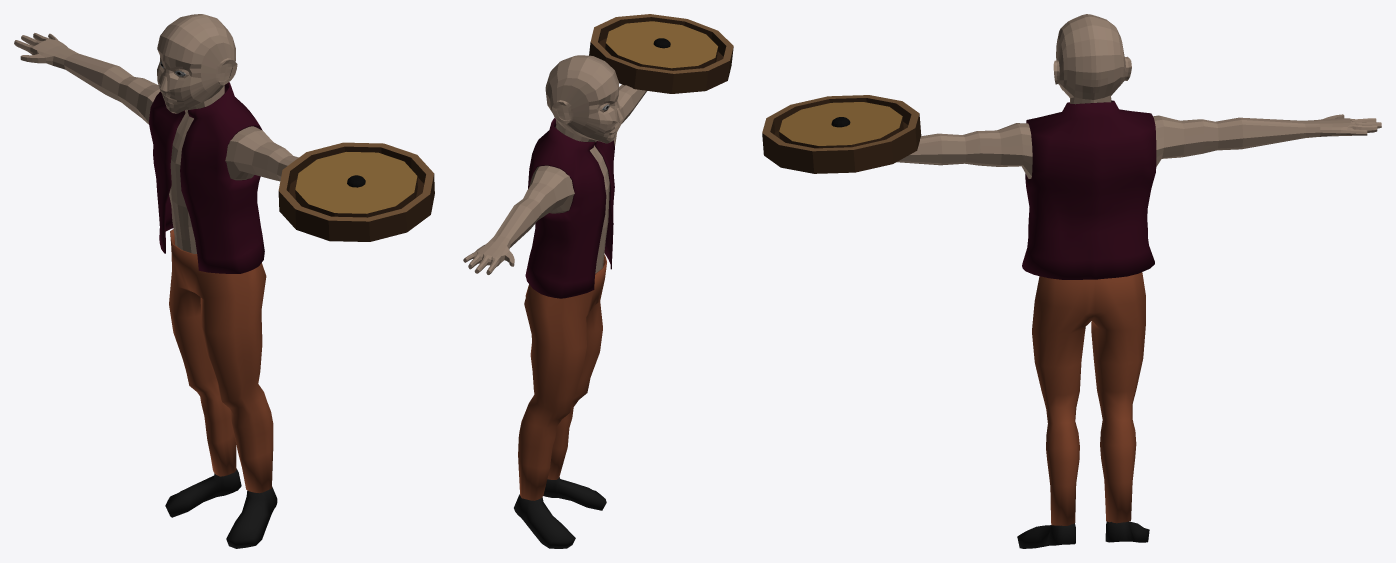
The model's file is animated_character.fbx.
3 views of the same model, side by side, from view 1: azimuth 30°, elevation 25°; view 2: azimuth 150°, elevation 25°; view 3: azimuth 270°, elevation 25° (orthographic). The views are drawn at different scales.
Parts seen in each view (by area): view 1: Celana, Body, Baju, Circle, Shoes; view 2: Celana, Body, Baju, Circle, Shoes; view 3: Baju, Celana, Body, Circle, Shoes.
Part boxes in pixels (left/top/right/bottom): Celana: left=169, top=229, right=273, bottom=493; Body: left=14, top=14, right=298, bottom=253; Baju: left=148, top=82, right=264, bottom=273; Circle: left=278, top=142, right=434, bottom=241; Shoes: left=165, top=468, right=277, bottom=548; Celana: left=518, top=254, right=606, bottom=500; Body: left=463, top=55, right=646, bottom=274; Baju: left=525, top=118, right=614, bottom=298; Circle: left=589, top=14, right=733, bottom=93; Shoes: left=514, top=477, right=606, bottom=548; Baju: left=1022, top=100, right=1156, bottom=279; Celana: left=1032, top=272, right=1145, bottom=525; Body: left=897, top=14, right=1381, bottom=178; Circle: left=762, top=95, right=921, bottom=173; Shoes: left=1017, top=521, right=1149, bottom=548.
Bounding box in the file's own units: 146 × 459 × 494.
9 materials, 1 textured.
